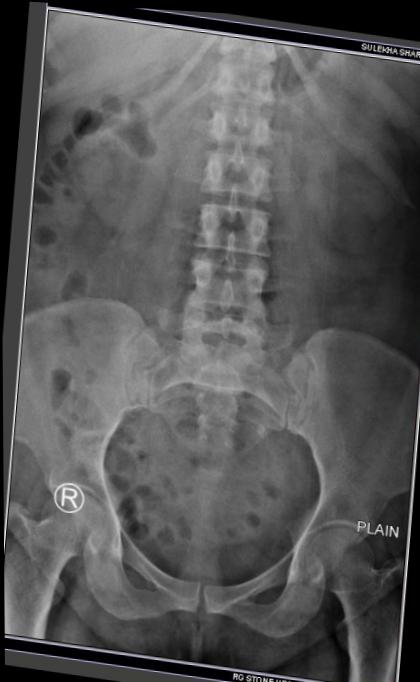vertebrae: (198, 75, 268, 137)
